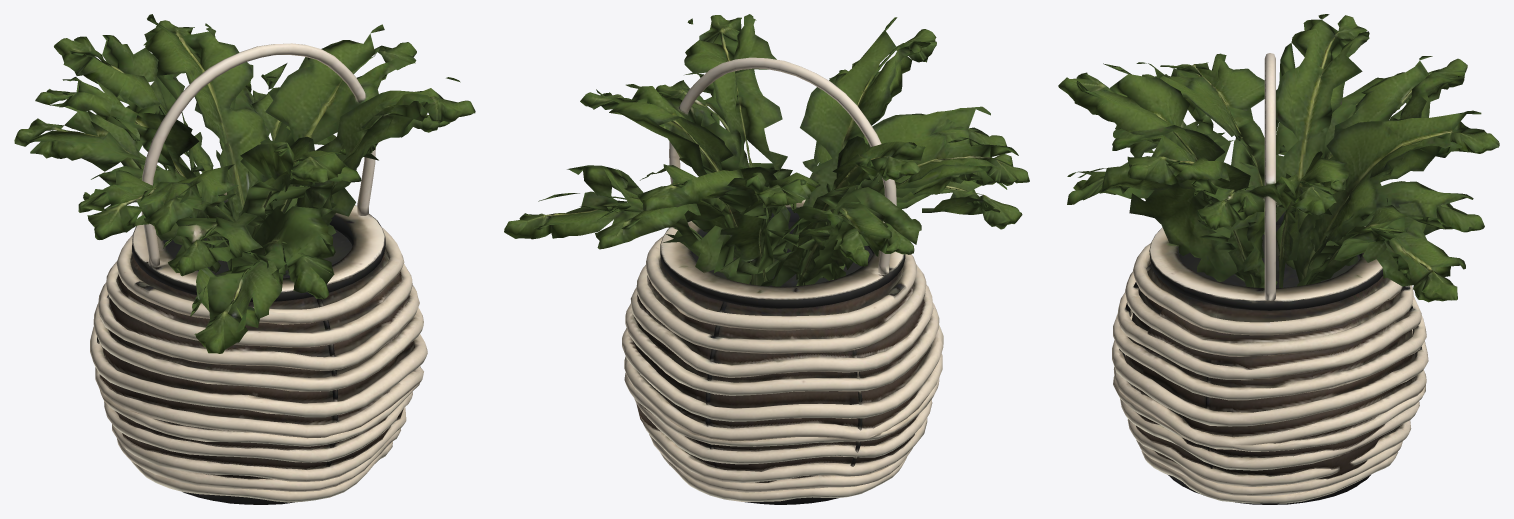
Rendered from 10 vazon_bochonok_deckwood.glb.
The picture shows the model from 3 angles, left to right: view 1: azimuth 30°, elevation 25°; view 2: azimuth 150°, elevation 25°; view 3: azimuth 270°, elevation 25°; orthographic projection. The views are drawn at different scales.
Visible parts, largest first — view 1: tripo_node_b389be55-d03c-4b16-9732-70899d1dbf55; view 2: tripo_node_b389be55-d03c-4b16-9732-70899d1dbf55; view 3: tripo_node_b389be55-d03c-4b16-9732-70899d1dbf55.
Part boxes in pixels (x1,y1,x2,y2): tripo_node_b389be55-d03c-4b16-9732-70899d1dbf55: (14,14,475,504); tripo_node_b389be55-d03c-4b16-9732-70899d1dbf55: (504,14,1029,504); tripo_node_b389be55-d03c-4b16-9732-70899d1dbf55: (1058,14,1499,504).
Size of the model in its own units: 0.8722 by 0.8586 by 0.8688.
Materials: 1 (1 with a texture image).
